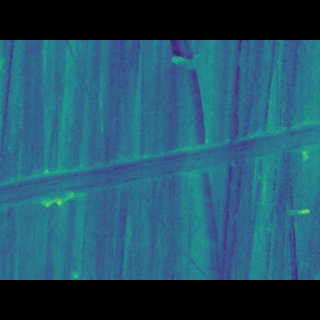Loch: (0, 127, 320, 197), (166, 67, 231, 250)
